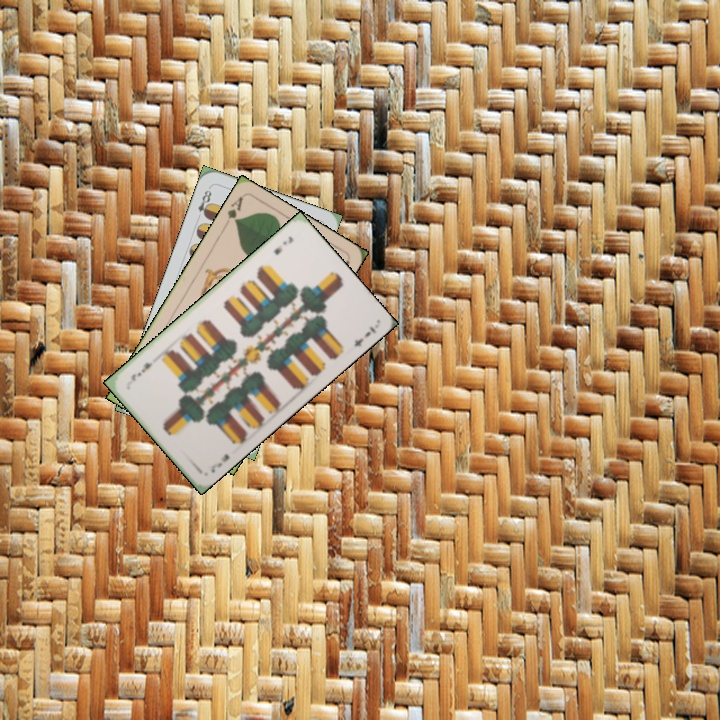E7: (270, 232, 296, 258), (207, 450, 232, 475)
E8: (193, 183, 214, 222)
GA: (223, 192, 245, 226)
